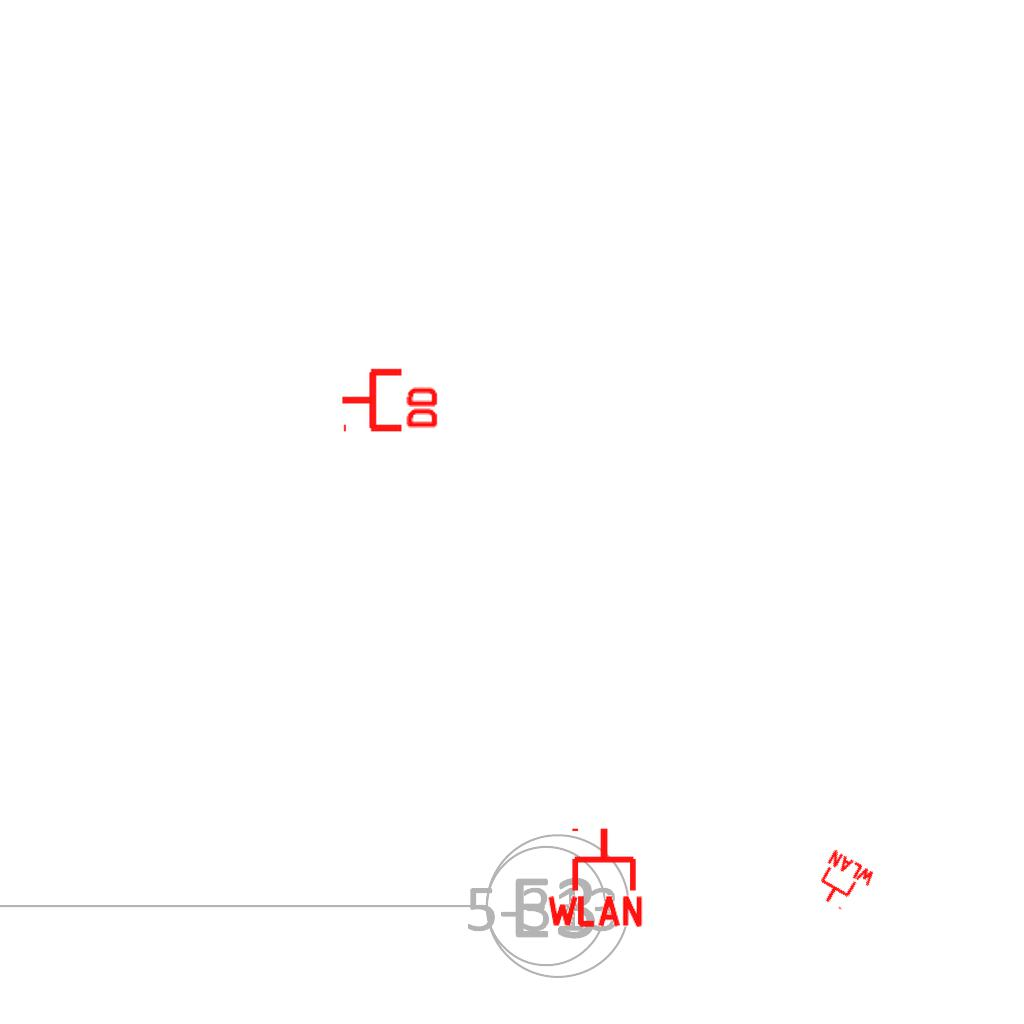Datenanschluss_zweifach: (339, 364, 442, 433)
WLAN: (543, 824, 647, 929), (807, 847, 879, 919)
